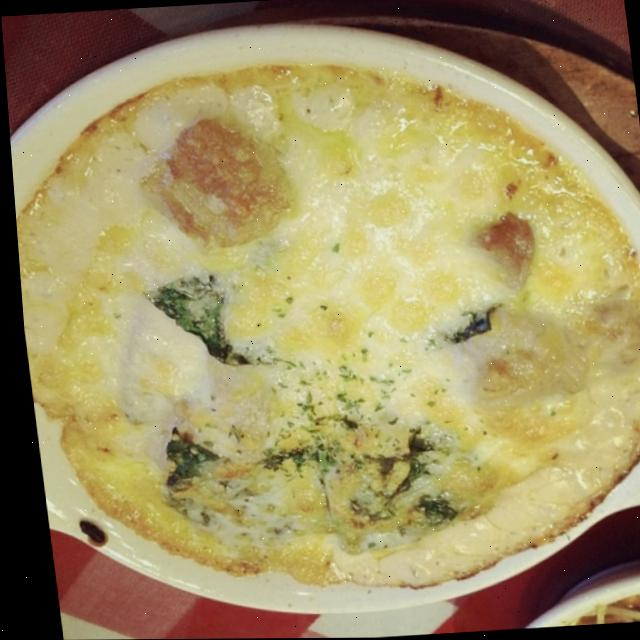米饭主食: (3, 40, 640, 618)
